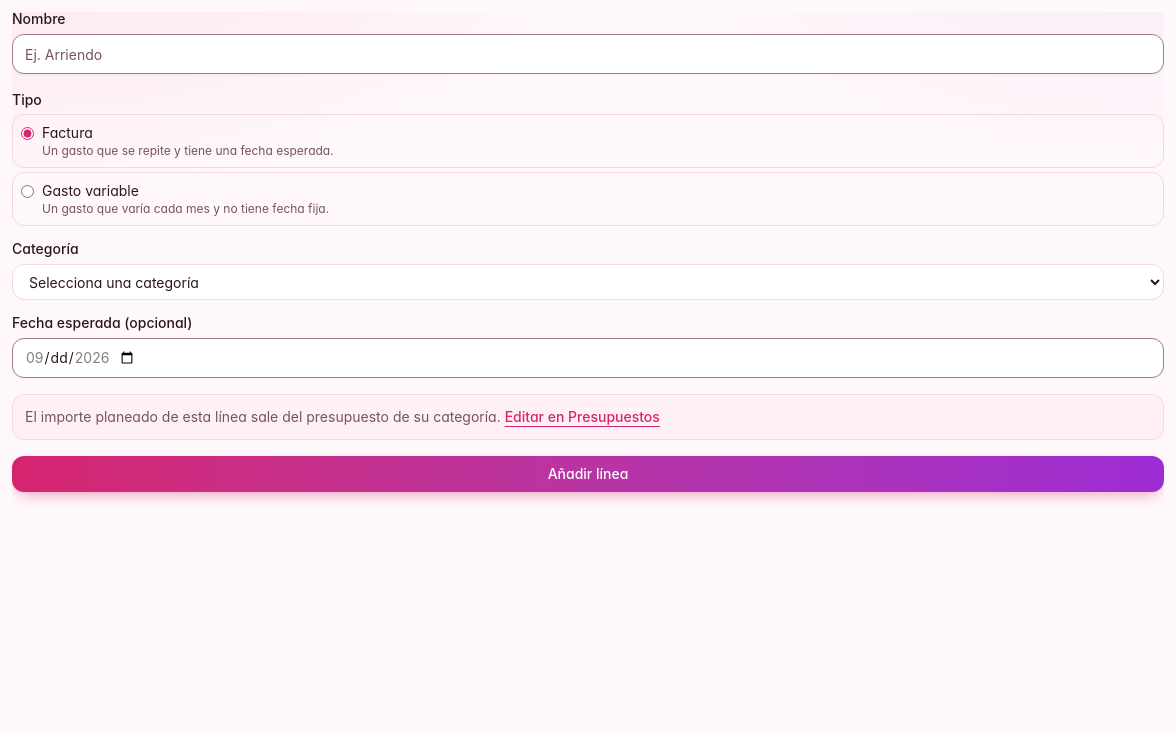
Test: PlanLineForm › no guarda una fecha fuera del mes del plan
This screenshot has width=1176, height=732.
Type "Arriendo" into the field labelled "Nombre". click: (588, 54)
box: [12,34,1164,74]
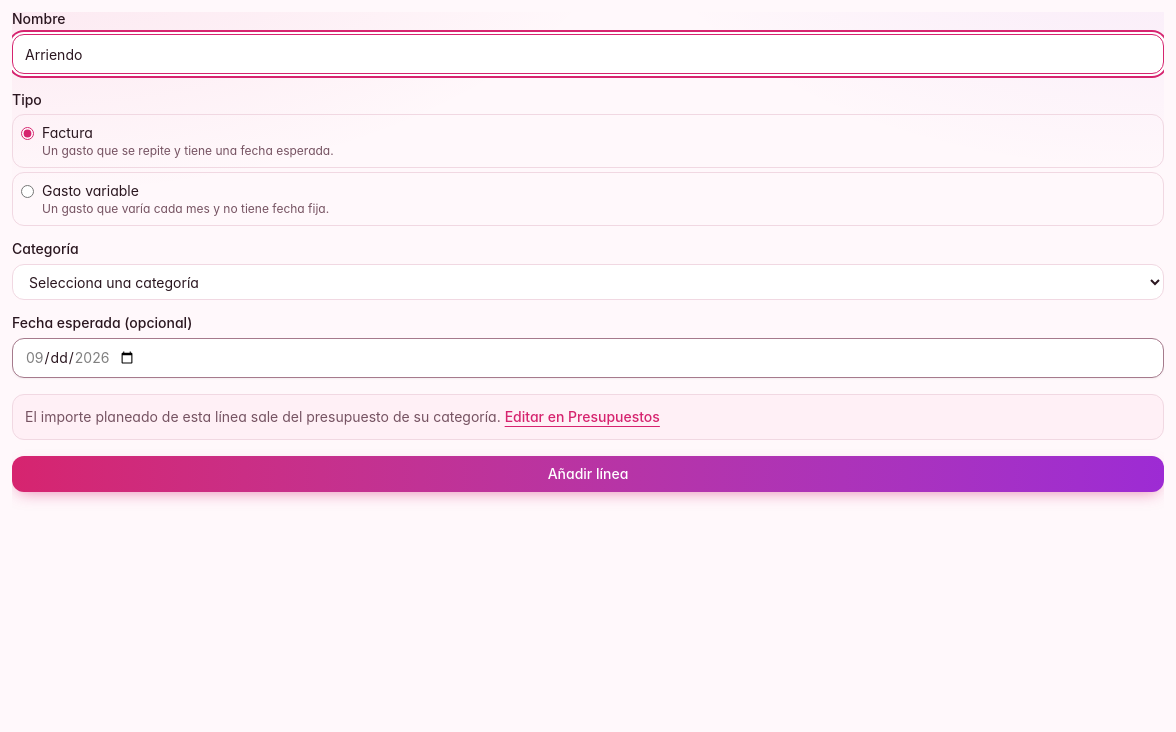
Select "Vivienda" in the dropdown labelled "Categoría". click: (588, 282)
box: [12,264,1164,300]
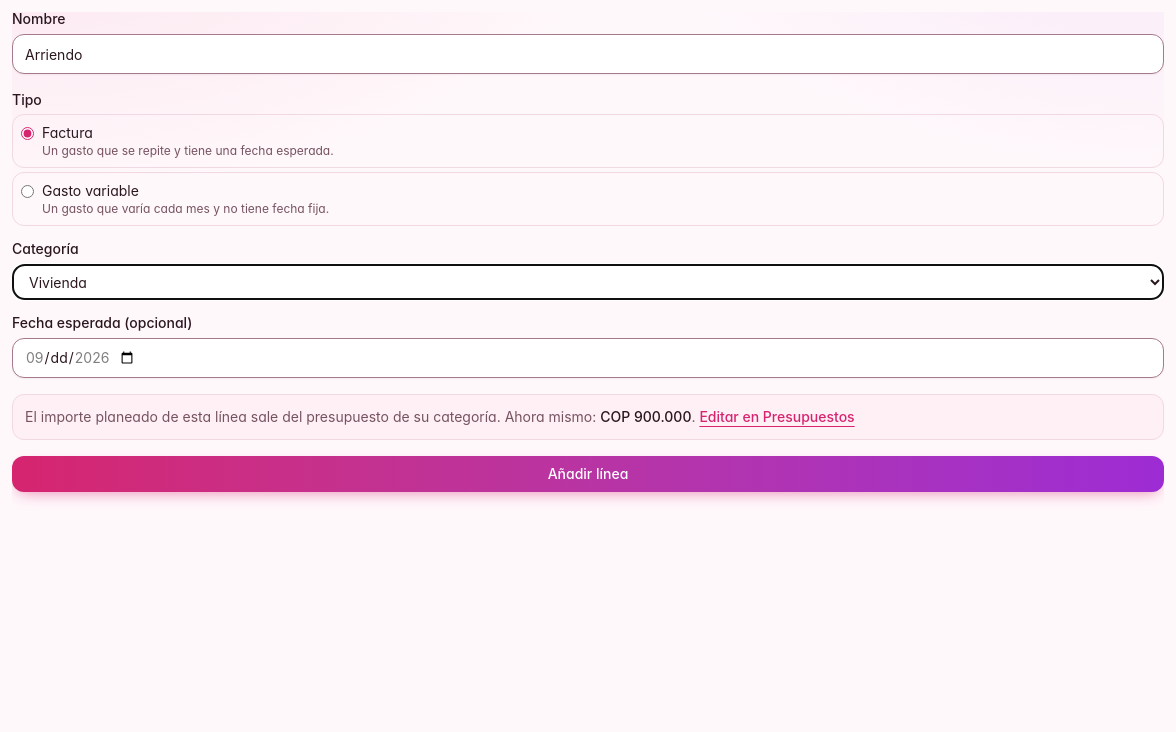
Type "2026-10-05" into the date field labelled "Fecha esperada (opcional)". click: (588, 358)
box: [12,338,1164,378]
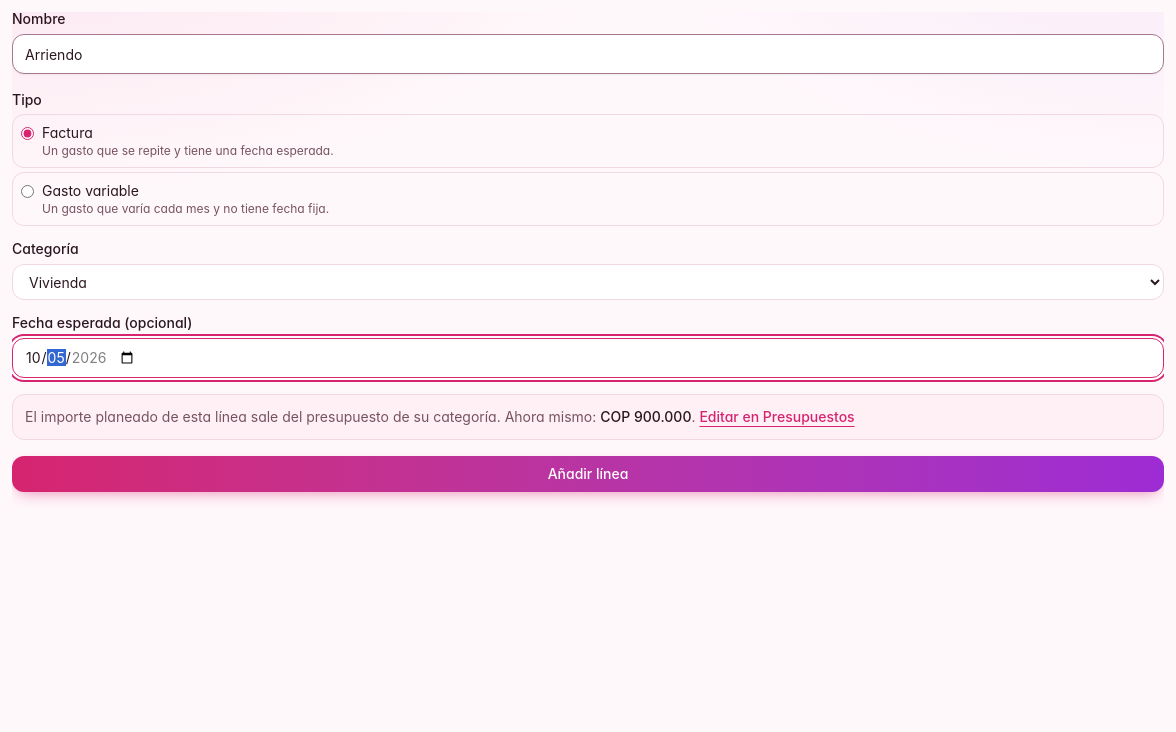
Click the button "Añadir línea". click: click(588, 474)
box: [12,456,1164,492]
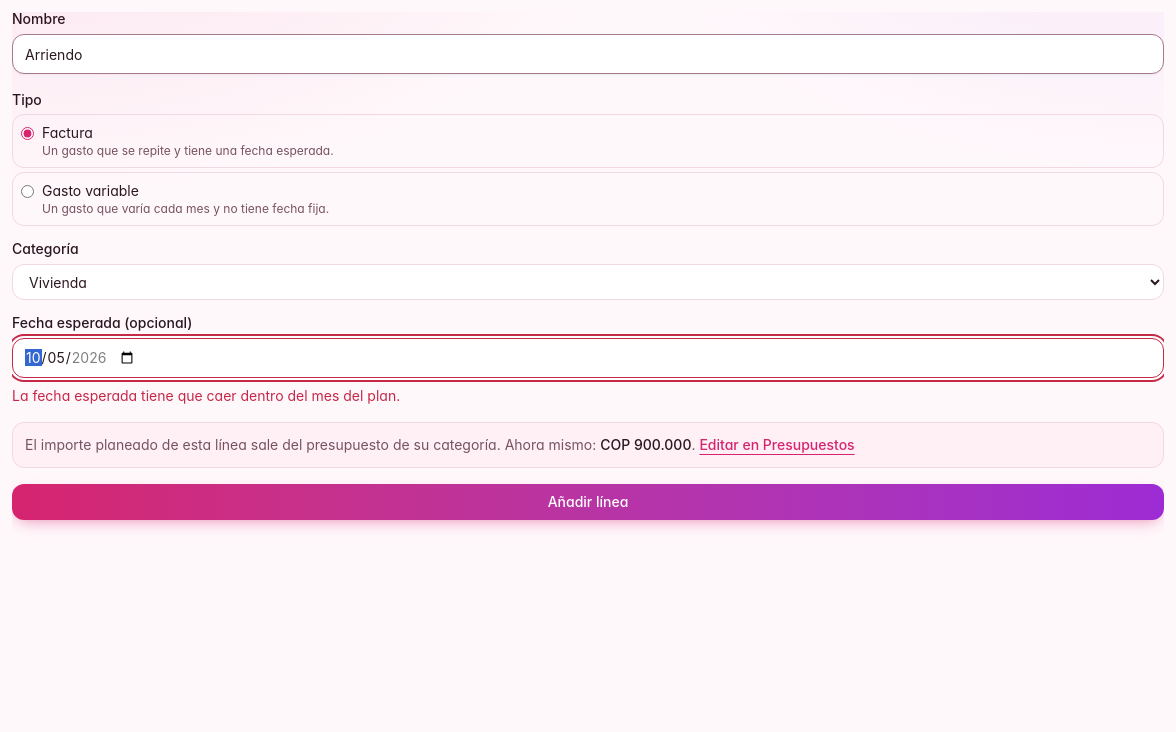
expect the text "La fecha esperada tiene que caer dentro del mes del plan." is shown: met, box [12,387,400,404]
